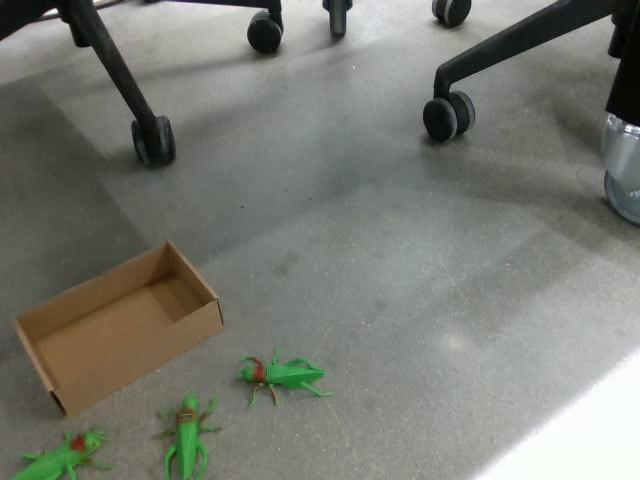box: (14, 239, 224, 417)
grasshopper: (151, 391, 222, 479), (235, 347, 333, 407), (9, 425, 113, 479)
